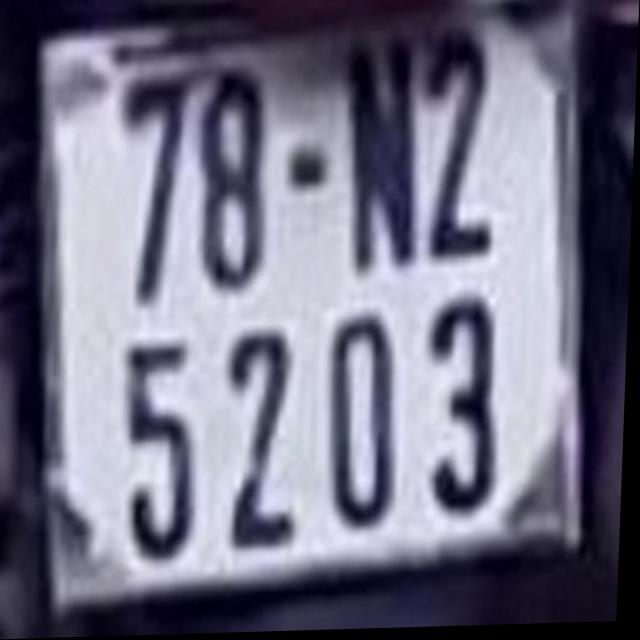0: (327, 316, 413, 529)
2: (226, 328, 311, 558), (423, 30, 499, 255)
3: (433, 295, 506, 510)
5: (124, 343, 206, 556)
7: (113, 74, 190, 306)
8: (192, 70, 268, 289)
N: (339, 43, 427, 269)
